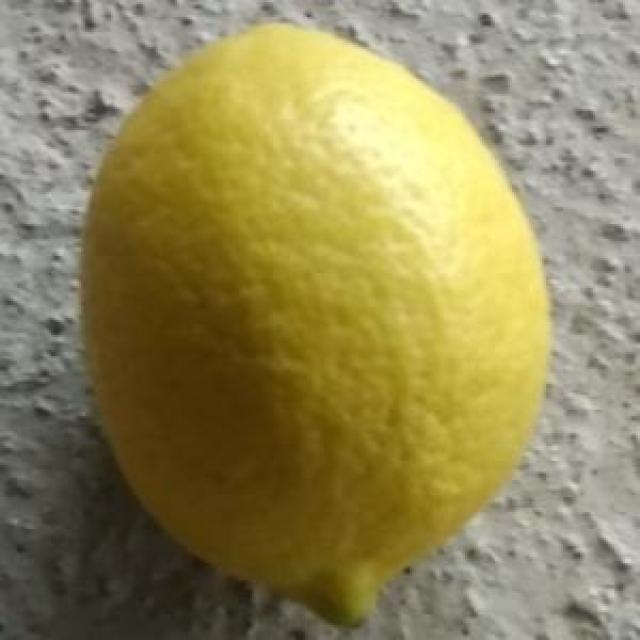lemon: (74, 23, 548, 637)
